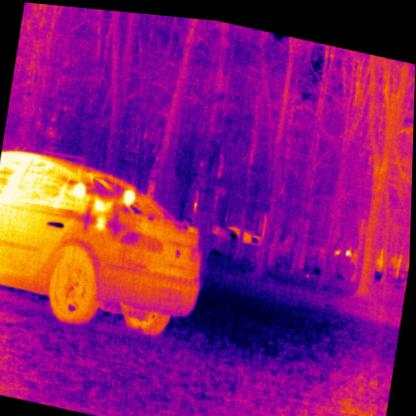drone: (68, 174, 136, 237)
